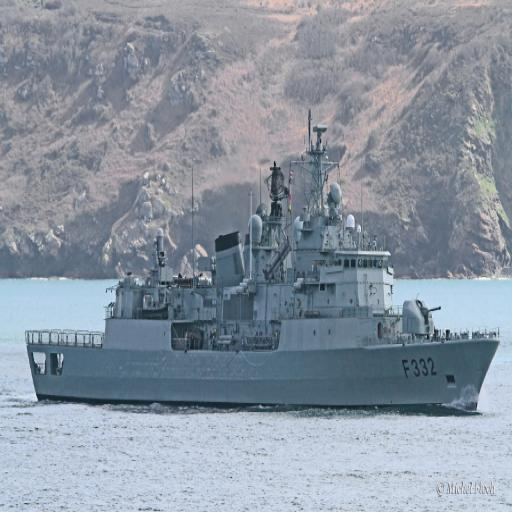Fragata: (23, 102, 503, 411)
